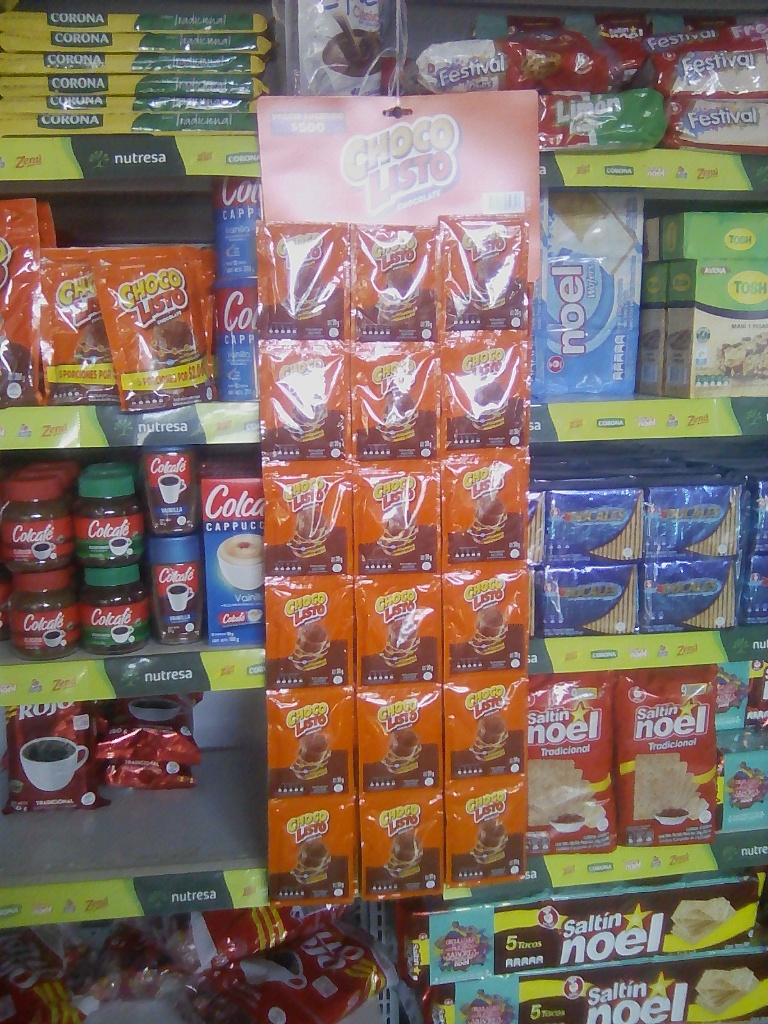COL0170103SOB02000: (260, 215, 351, 341)
